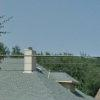Chimney: (20, 42, 43, 89)
